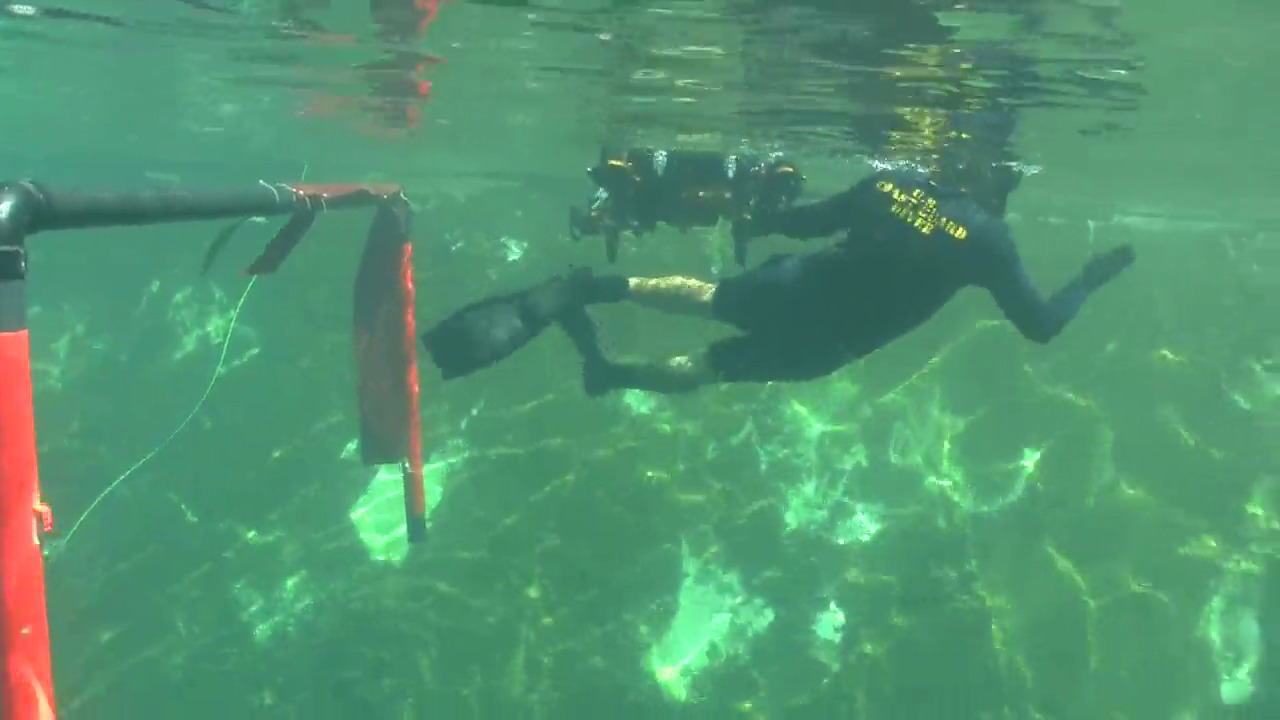gate: (3, 171, 430, 720)
